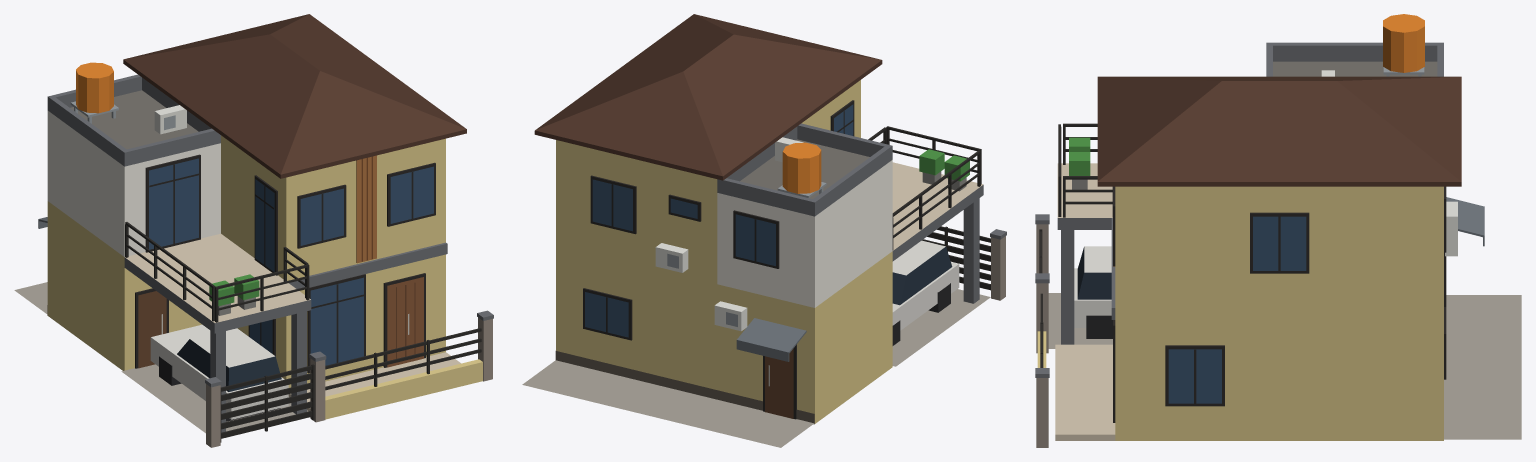
Rendered from rumah2_07.glb.
3 renders of one model, left to right at view 1: azimuth 30°, elevation 25°; view 2: azimuth 150°, elevation 25°; view 3: azimuth 270°, elevation 25°, orthographic. The views are drawn at different scales.
Visible parts, largest first — view 1: rumah2_07; view 2: rumah2_07; view 3: rumah2_07.
Boxes of the visible parts, x1=… form: rumah2_07: x1=14, y1=14, x2=493, y2=447; rumah2_07: x1=522, y1=14, x2=1006, y2=447; rumah2_07: x1=1035, y1=14, x2=1521, y2=447.
Size of the model in its own units: 8.5 by 7.82 by 10.95.
